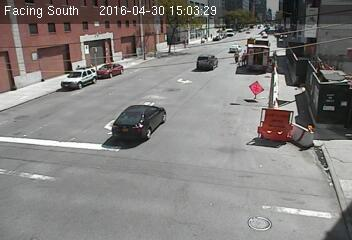neg: (241, 86, 262, 114)
pos: (227, 46, 246, 71)
